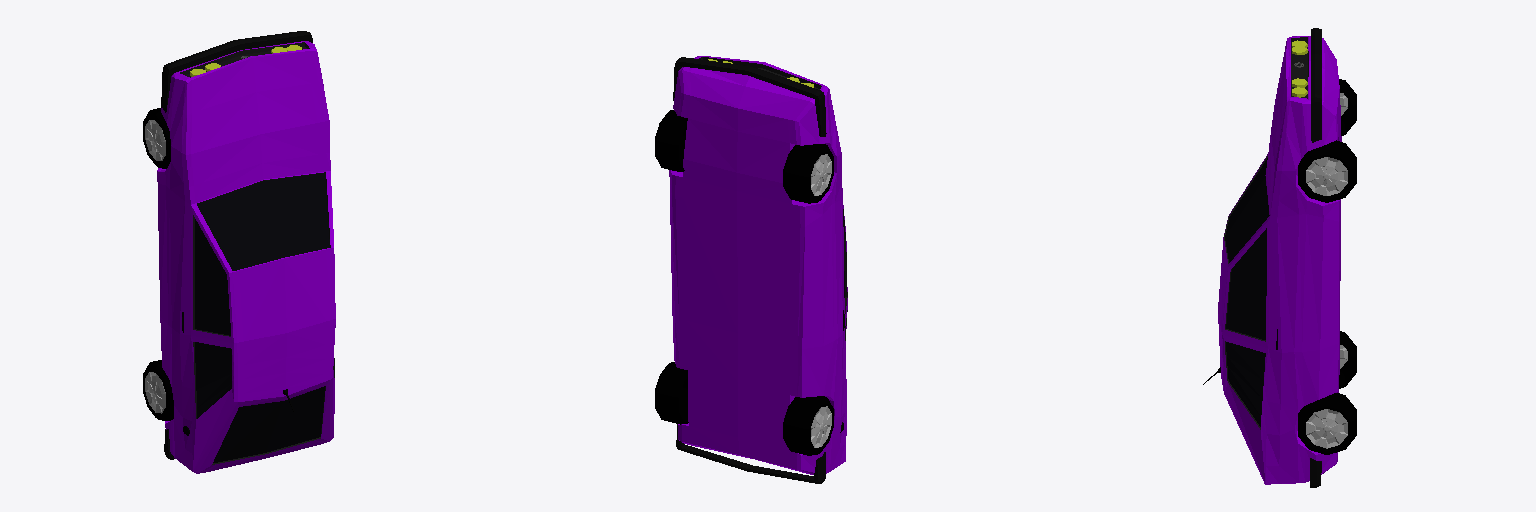
File: car_no_ground.obj
3 views of the same model, side by side, from view 1: azimuth 30°, elevation 25°; view 2: azimuth 150°, elevation 25°; view 3: azimuth 270°, elevation 25° (orthographic).
Visible parts, largest first — view 1: Object.1; view 2: Object.1; view 3: Object.1.
Boxes of the visible parts, box(x1,y1,x2,y2) form: Object.1: box(143, 31, 335, 473); Object.1: box(655, 56, 847, 483); Object.1: box(1203, 28, 1356, 487).
Size of the model in its own units: 96.7 by 241 by 82.7.